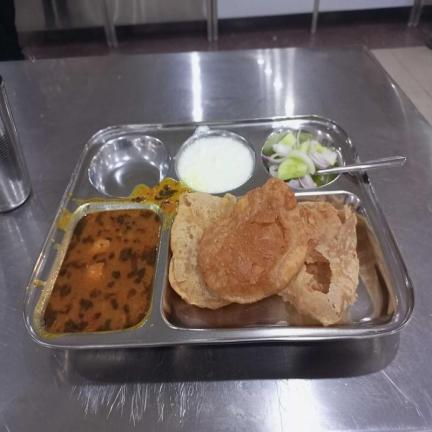Aalu Ki Sabji: (43, 208, 162, 333)
Dahi: (177, 136, 254, 193)
Plate: (22, 115, 416, 348)
Puri: (168, 175, 360, 329)
Salad: (262, 124, 336, 189)
